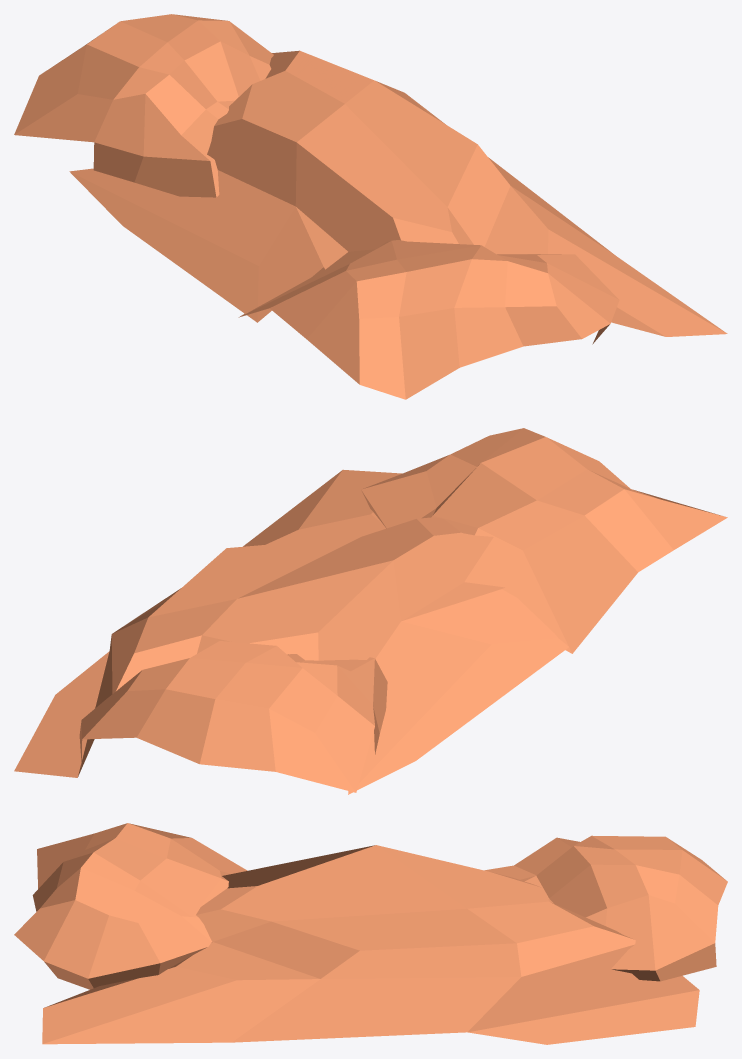
File: Mining_Truck_Rocks.fbx
3 renders of one model, top to bottom at view 1: azimuth 30°, elevation 25°; view 2: azimuth 150°, elevation 25°; view 3: azimuth 270°, elevation 25°, orthographic. The views are drawn at different scales.
Visible parts, largest first — view 1: Mining_Truck_Rocks; view 2: Mining_Truck_Rocks; view 3: Mining_Truck_Rocks.
Part boxes in pixels (x1=…): Mining_Truck_Rocks: x1=14, y1=14, x2=727, y2=399; Mining_Truck_Rocks: x1=14, y1=428, x2=727, y2=794; Mining_Truck_Rocks: x1=14, y1=823, x2=727, y2=1044.
Bounding box in the file's own units: 156 × 47.45 × 297.
